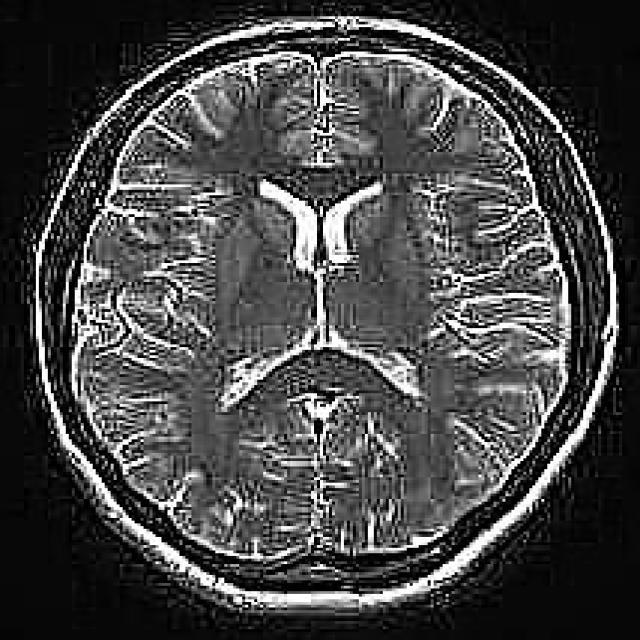notumor: (33, 16, 619, 624)
